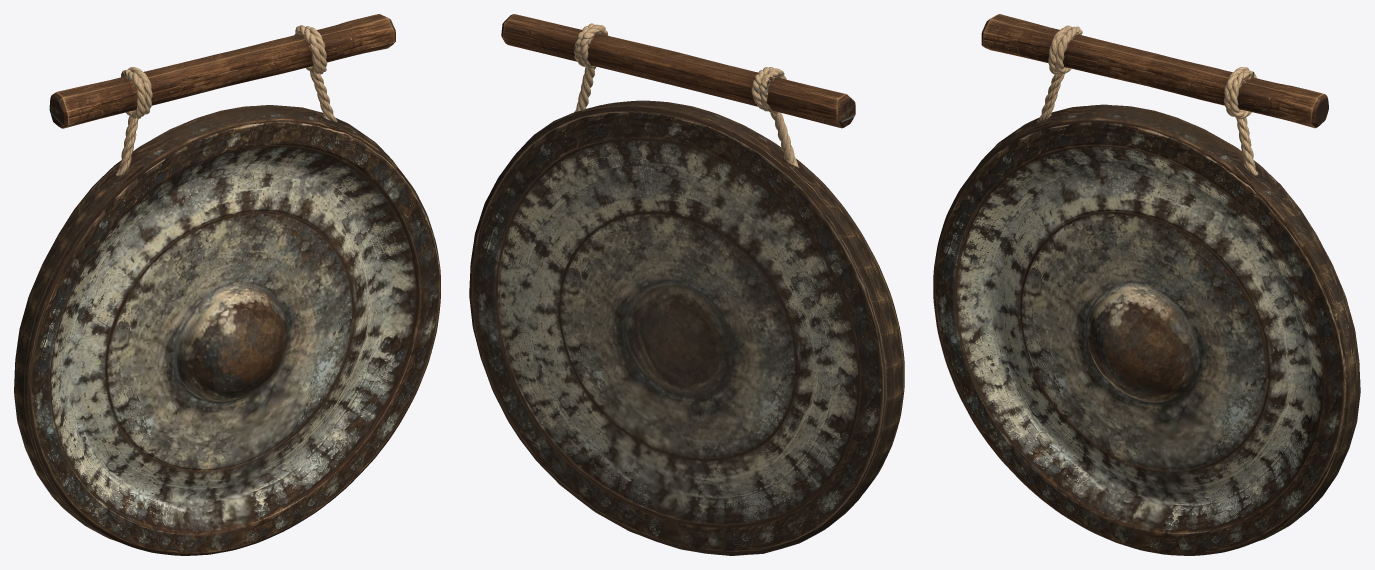
File: cong-chieng.glb
3 renders of one model, left to right at view 1: azimuth 30°, elevation 25°; view 2: azimuth 150°, elevation 25°; view 3: azimuth 330°, elevation 25°, orthographic.
Size of the model in its own units: 0.8851 by 0.9998 by 0.1389.
1 material, 1 textured.
